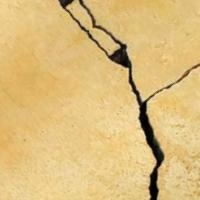crack: (55, 0, 199, 199)
